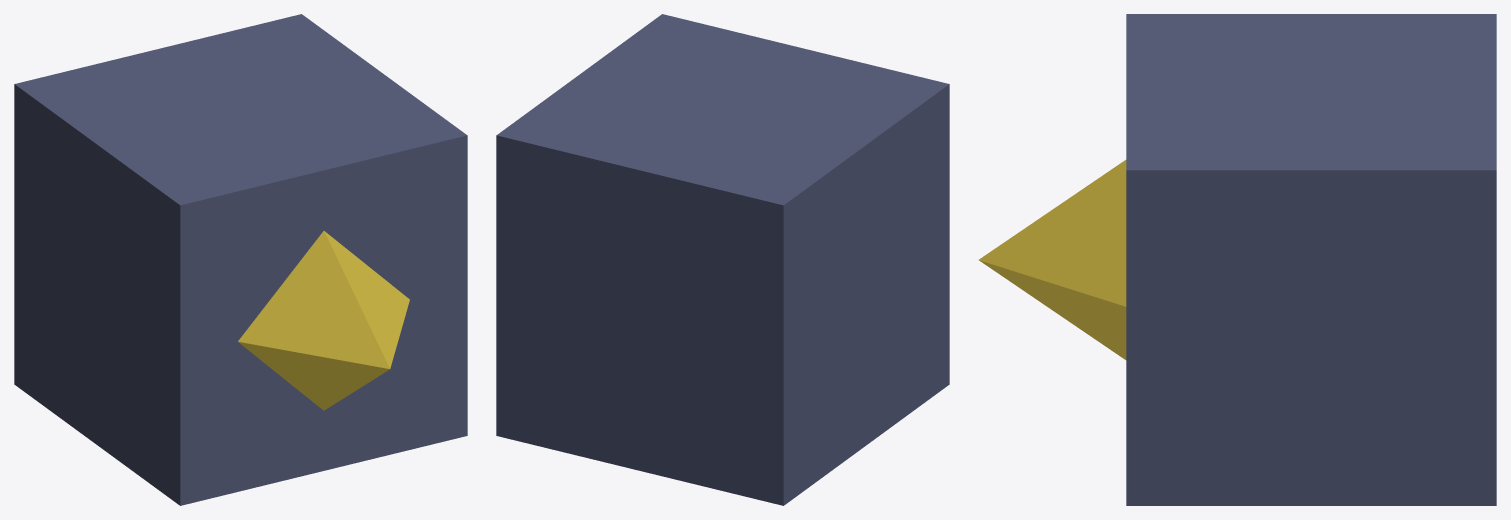
The model's file is axis_probe.glb.
3 views of the same model, side by side, from view 1: azimuth 30°, elevation 25°; view 2: azimuth 150°, elevation 25°; view 3: azimuth 270°, elevation 25° (orthographic). The views are drawn at different scales.
Visible parts, largest first — view 1: Body; view 2: Body; view 3: Body.
Part boxes in pixels (<box>): Body: <box>14,14,467,505</box>; Body: <box>496,14,949,505</box>; Body: <box>979,14,1496,505</box>.
Bounding box in the file's own units: 0.4 × 0.4 × 0.56.
